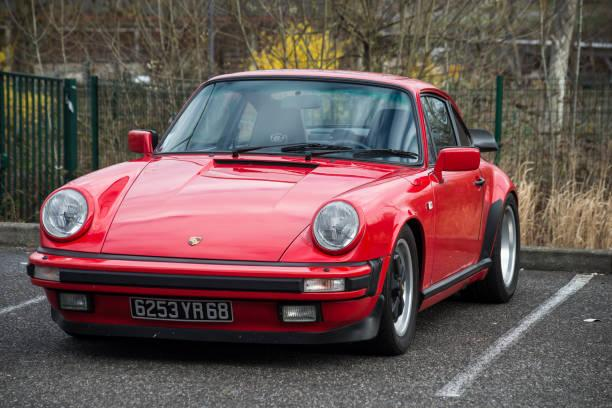porsche: (184, 233, 206, 249)
